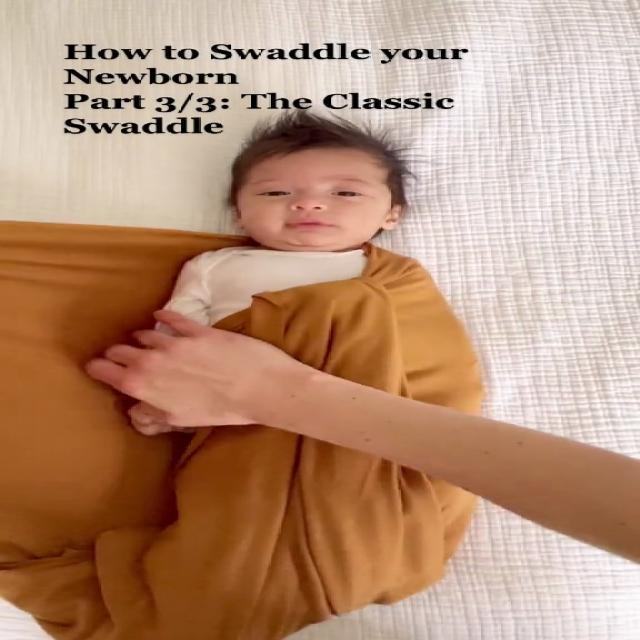baby: (106, 108, 480, 638)
